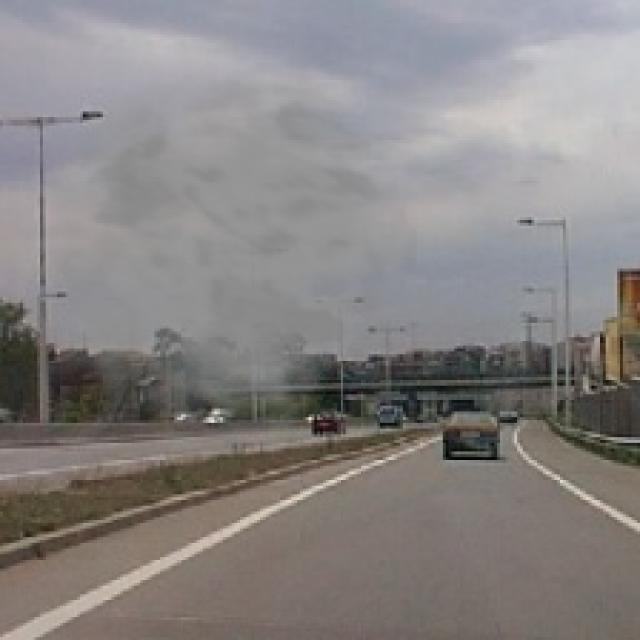Smoke: (6, 62, 423, 448)
